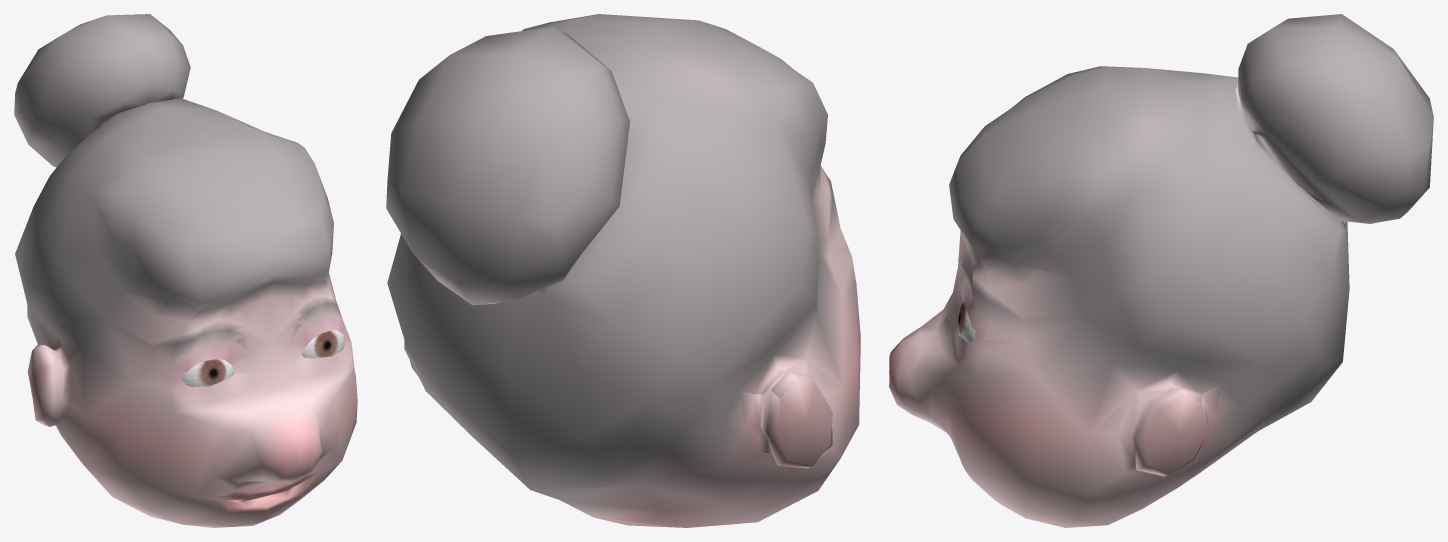
The model's file is grannyhead.dae.
3 views of the same model, side by side, from view 1: azimuth 30°, elevation 25°; view 2: azimuth 150°, elevation 25°; view 3: azimuth 270°, elevation 25° (orthographic). The views are drawn at different scales.
Parts seen in each view (by area): view 1: head, eyes; view 2: head; view 3: head.
Boxes of the visible parts, x1=… form: head: x1=14, y1=14, x2=357, y2=527; eyes: x1=181, y1=330, x2=344, y2=387; head: x1=386, y1=14, x2=860, y2=527; head: x1=889, y1=14, x2=1433, y2=527.
Size of the model in its own units: 277 by 370 by 382.
2 materials, 2 textured.
